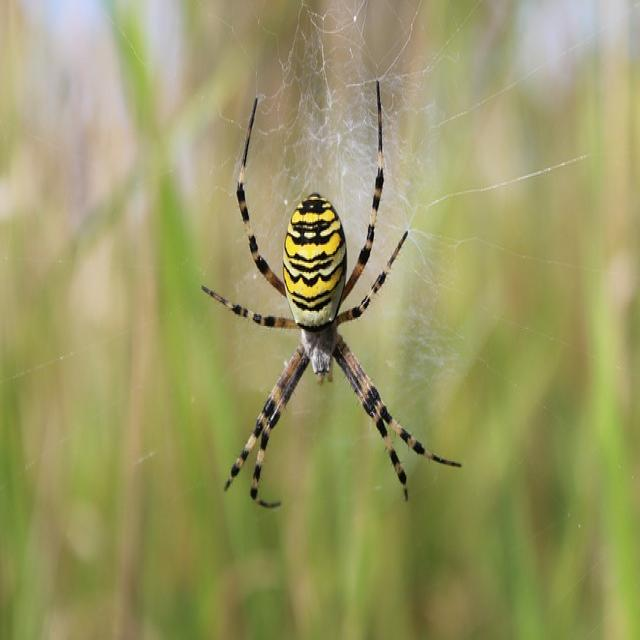spyder: (202, 83, 459, 507)
